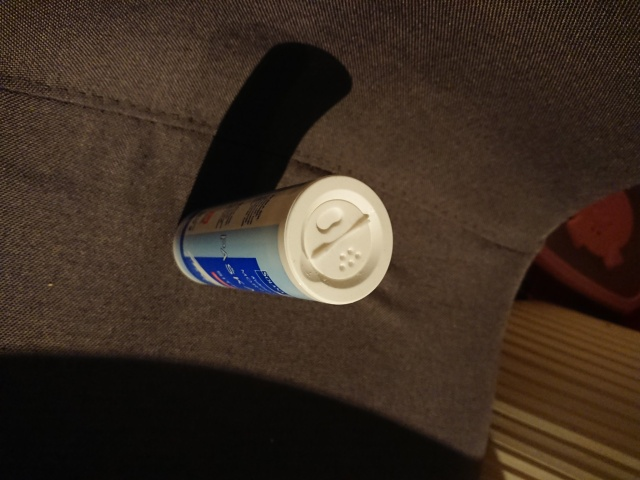Solana Pag Fine Sea Salt 250g: (168, 171, 397, 311)
